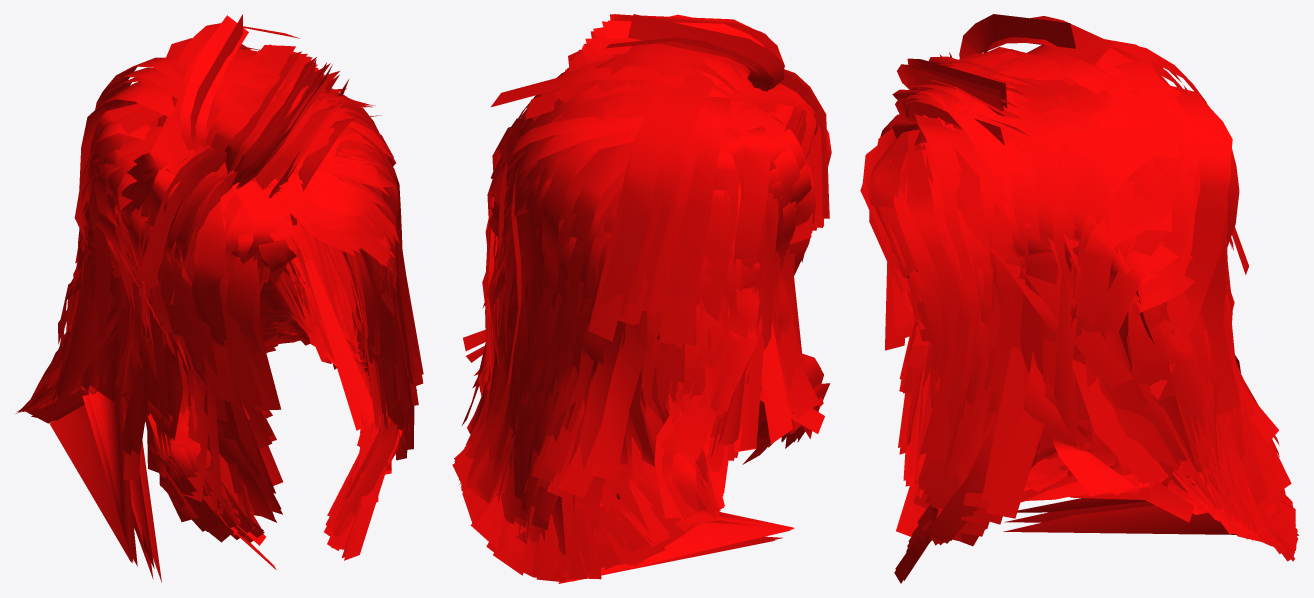
Rendered from o4saken_long01_M.glb.
The picture shows the model from 3 angles, left to right: view 1: azimuth 30°, elevation 25°; view 2: azimuth 150°, elevation 25°; view 3: azimuth 270°, elevation 25°; orthographic projection. The views are drawn at different scales.
Bounding box in the file's own units: 0.3125 × 0.468 × 0.3278.
Materials: 1 (1 with a texture image).
